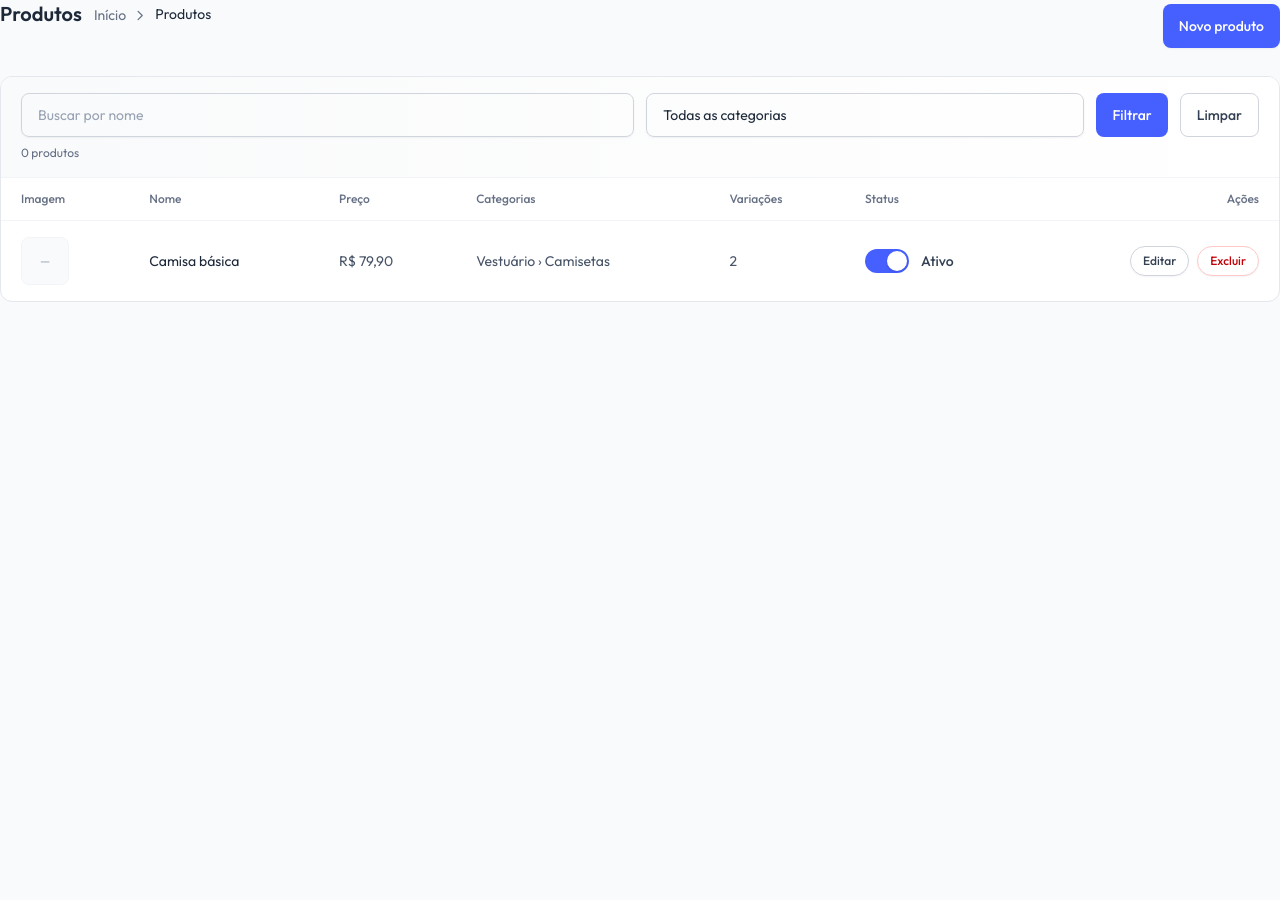
Test: ProductsList › shows delete error when delete fails
Click the button "Excluir": (1228, 261) [1197, 246, 1259, 276]
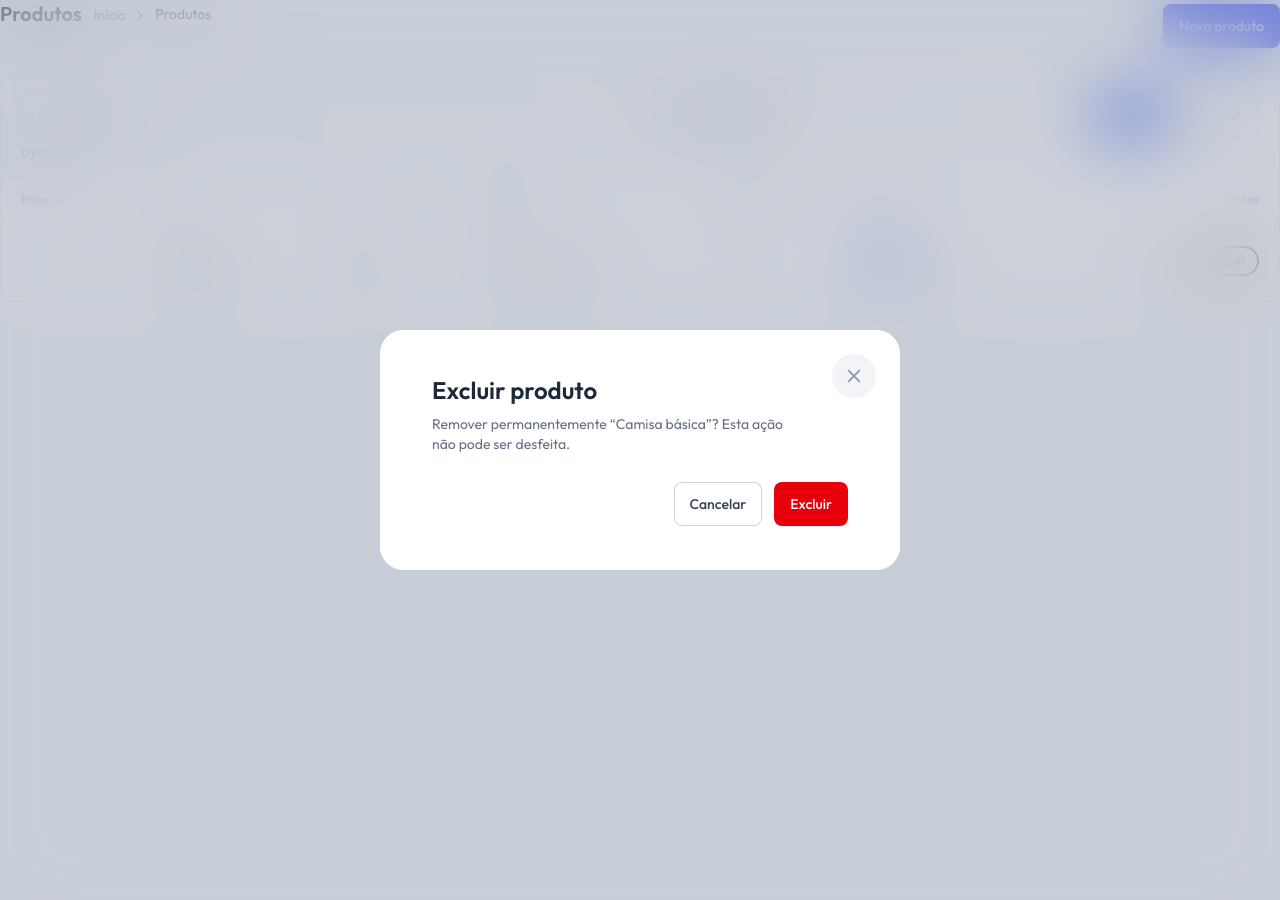
Click the button "Excluir": (811, 504) [774, 482, 848, 526]
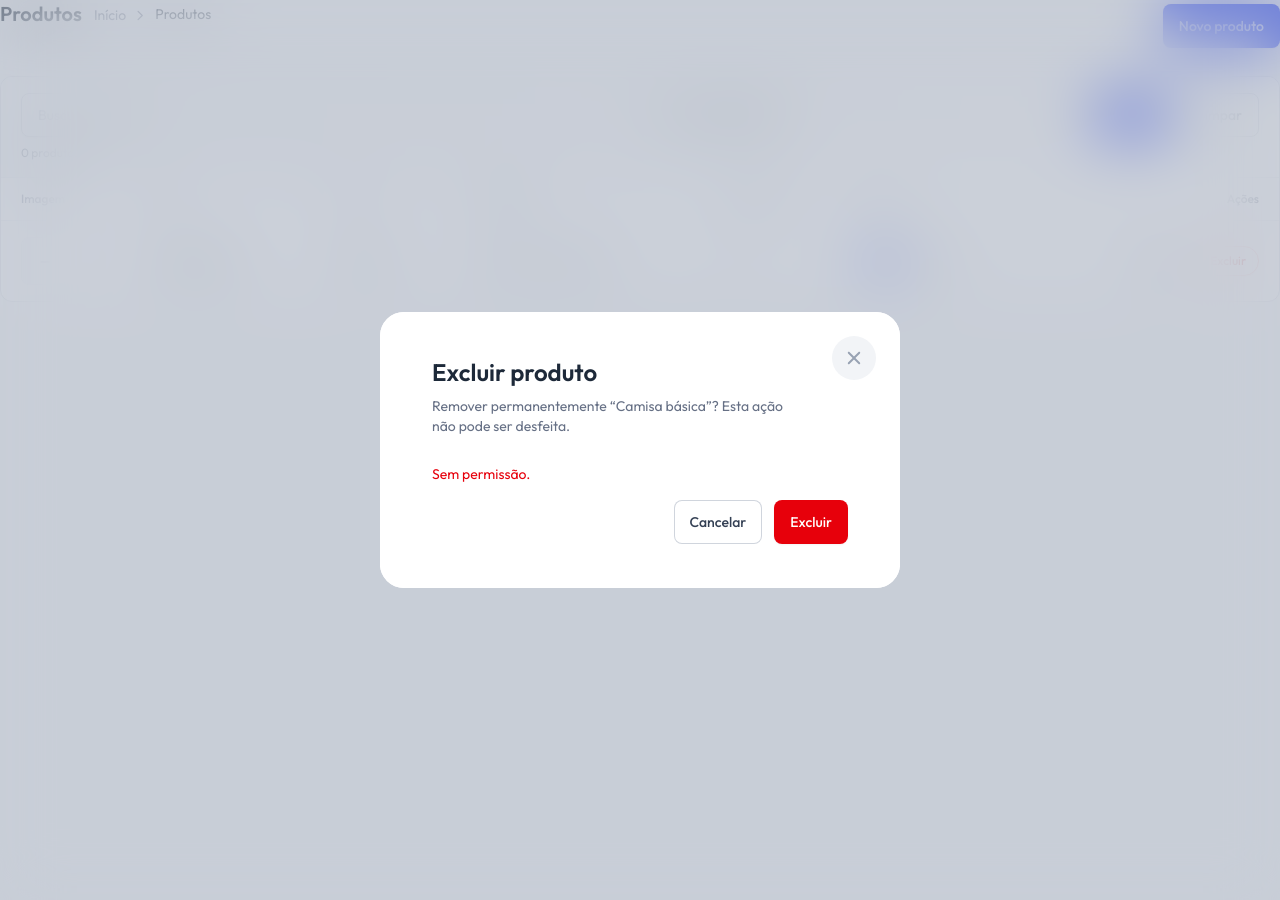
Result: the text "Sem permissão." is shown at [432, 465, 530, 483]
